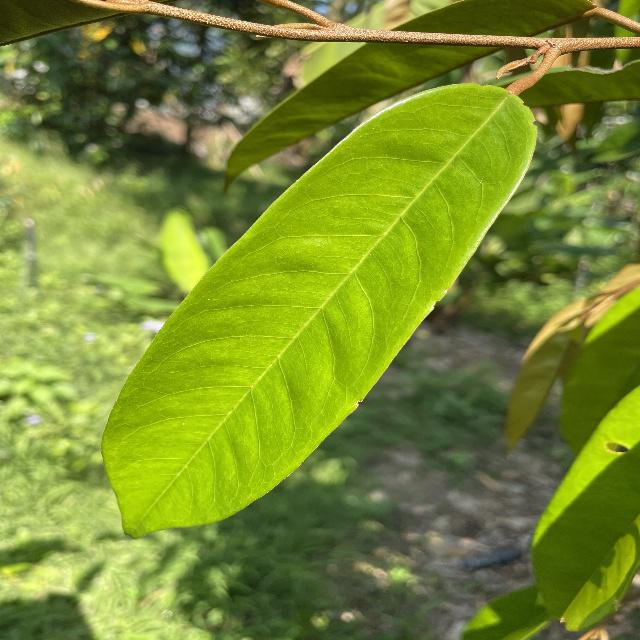No Disease: (93, 73, 543, 548)
